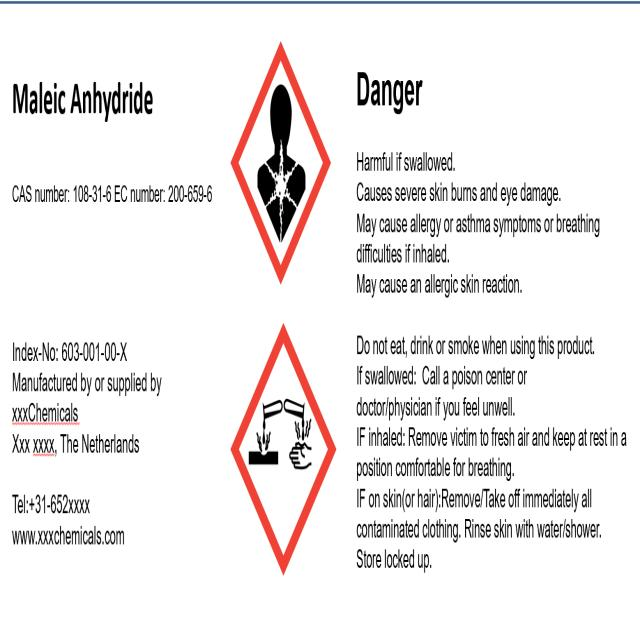cas number: (10, 170, 222, 232)
chemical name: (10, 75, 158, 143)
corrosive: (236, 330, 332, 559)
danger text: (354, 63, 434, 127)
health hazard: (244, 54, 318, 280)
warning text: (353, 141, 625, 305)
